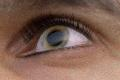eye: (42, 28, 70, 50)
